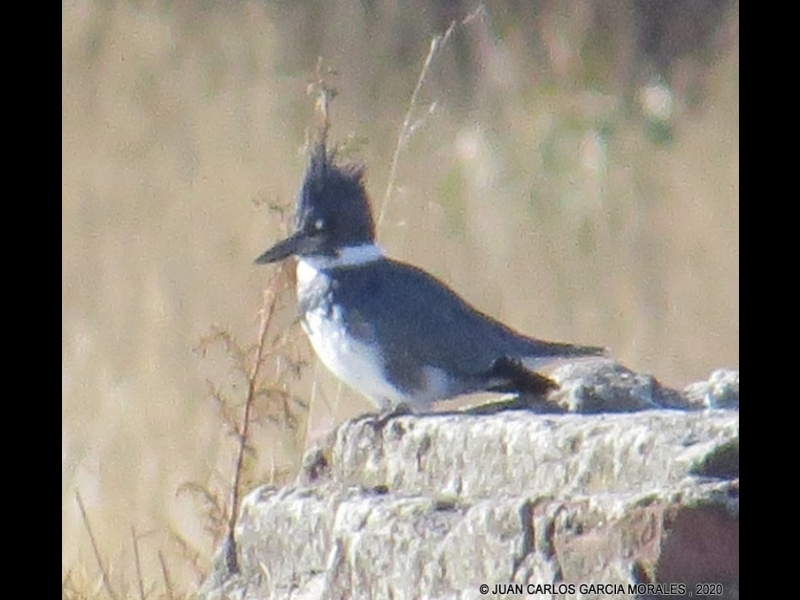kingfisher: (251, 137, 612, 435)
